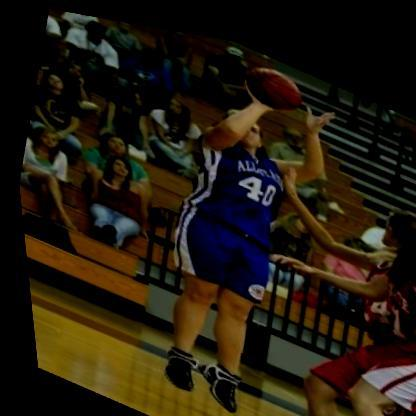basketball: (235, 42, 313, 113)
